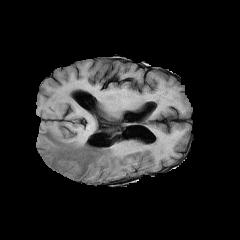glioma: (36, 120, 131, 175)
